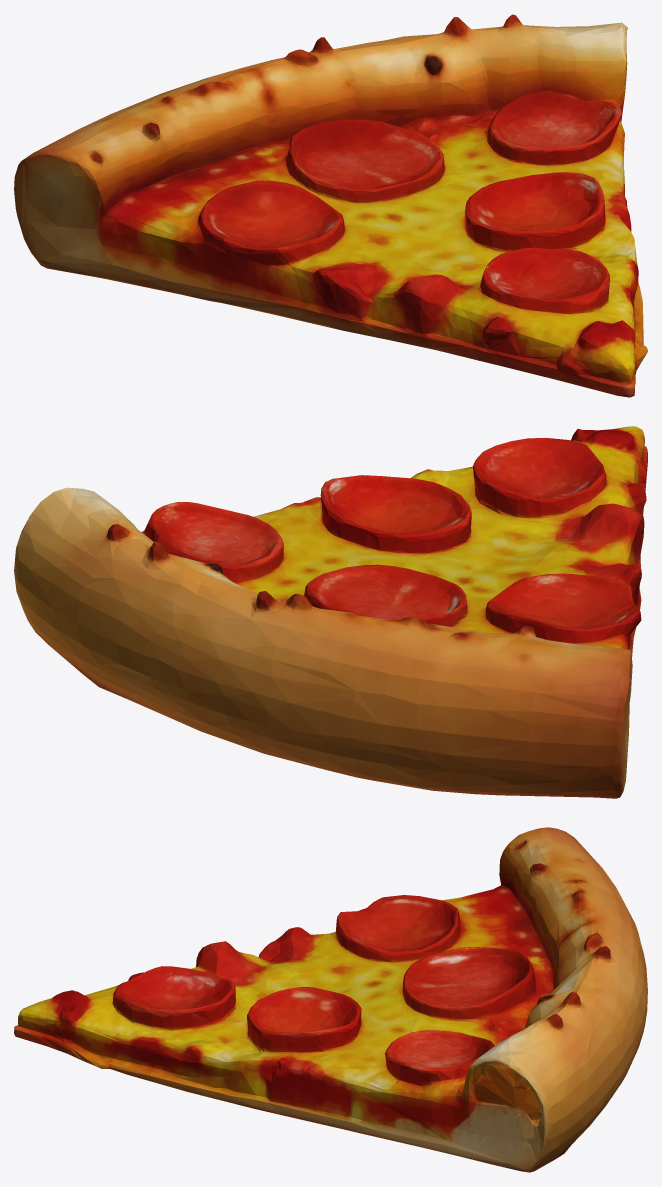
3 renders of one model, top to bottom at view 1: azimuth 30°, elevation 25°; view 2: azimuth 150°, elevation 25°; view 3: azimuth 270°, elevation 25°, orthographic. The views are drawn at different scales.
Visible parts, largest first — view 1: geometry_0; view 2: geometry_0; view 3: geometry_0.
Boxes of the visible parts, x1=… form: geometry_0: x1=14, y1=14, x2=647, y2=397; geometry_0: x1=14, y1=426, x2=647, y2=798; geometry_0: x1=14, y1=827, x2=647, y2=1172.
Size of the model in its own units: 0.9473 by 0.2393 by 0.999.
Materials: 1 (1 with a texture image).
